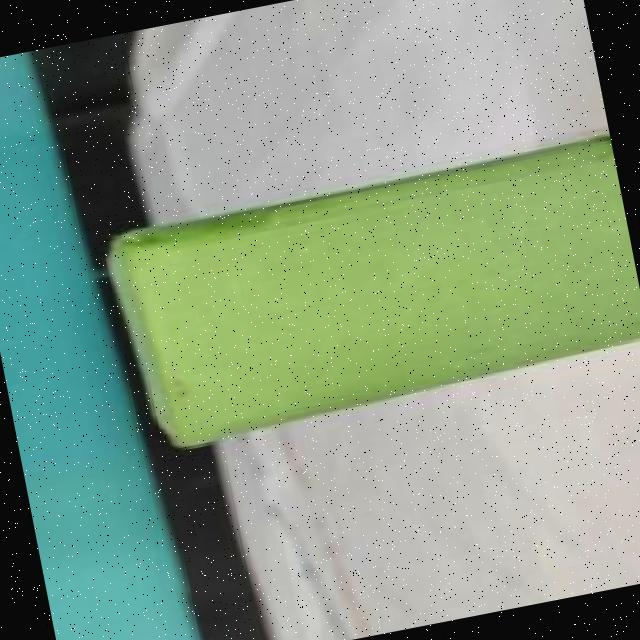greenbox: (97, 132, 640, 458)
